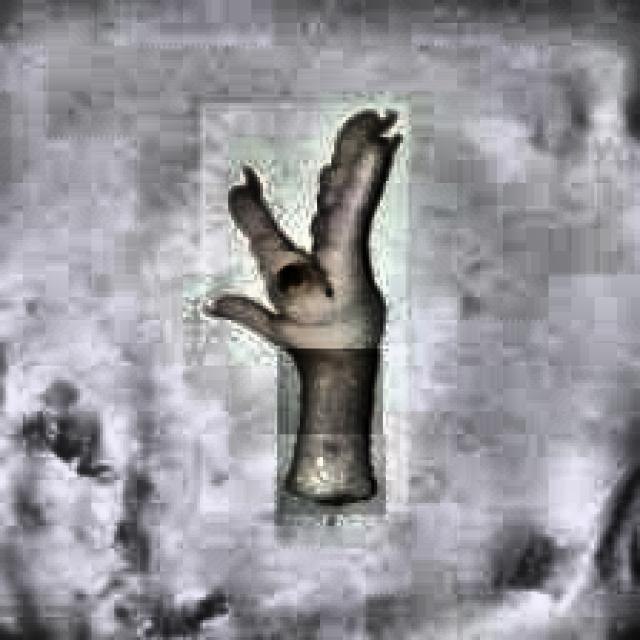Bumble foot: (200, 103, 406, 508), (271, 260, 306, 294)
